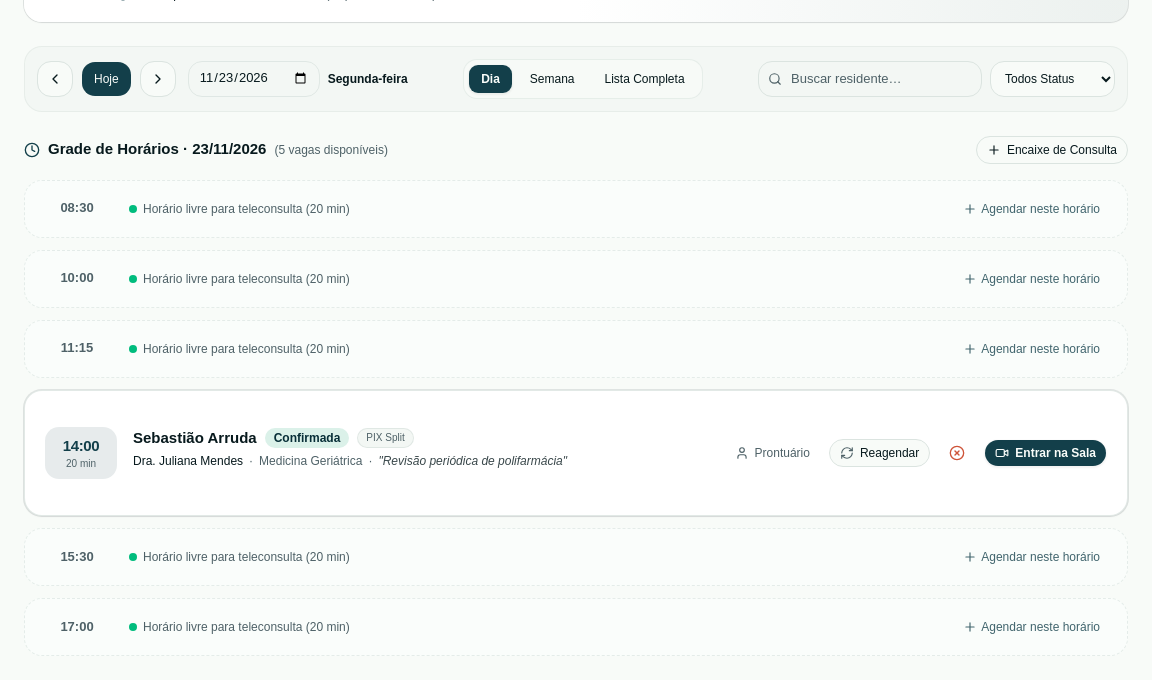
Test: AgendaTeleconsulta Page › permite cancelar uma teleconsulta com justificativa
Later steps or results of the test are not shown.
(page scrolled)
Click the button titled "Cancelar atendimento" at (957, 453), box left=938, top=439, right=976, bottom=467
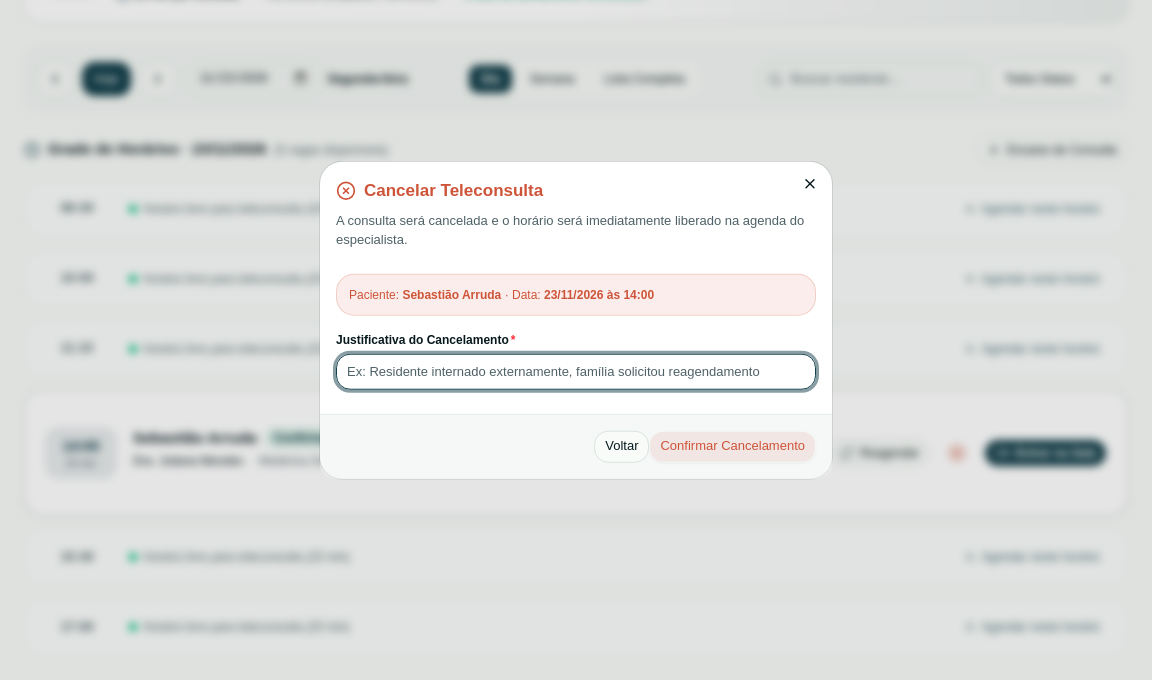
Expected: the heading "Cancelar Teleconsulta" is shown, left=336, top=181, right=543, bottom=201
Expected: the text "Justificativa do Cancelamento *" is shown, left=336, top=331, right=515, bottom=347
